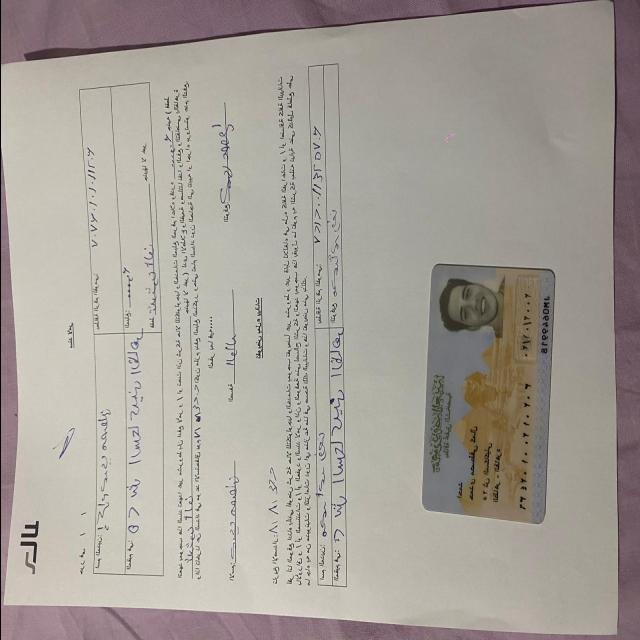ID-cards: (416, 260, 558, 530)
